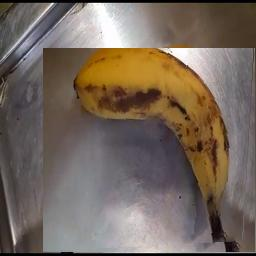Banana Semirotten: (44, 48, 256, 252)
